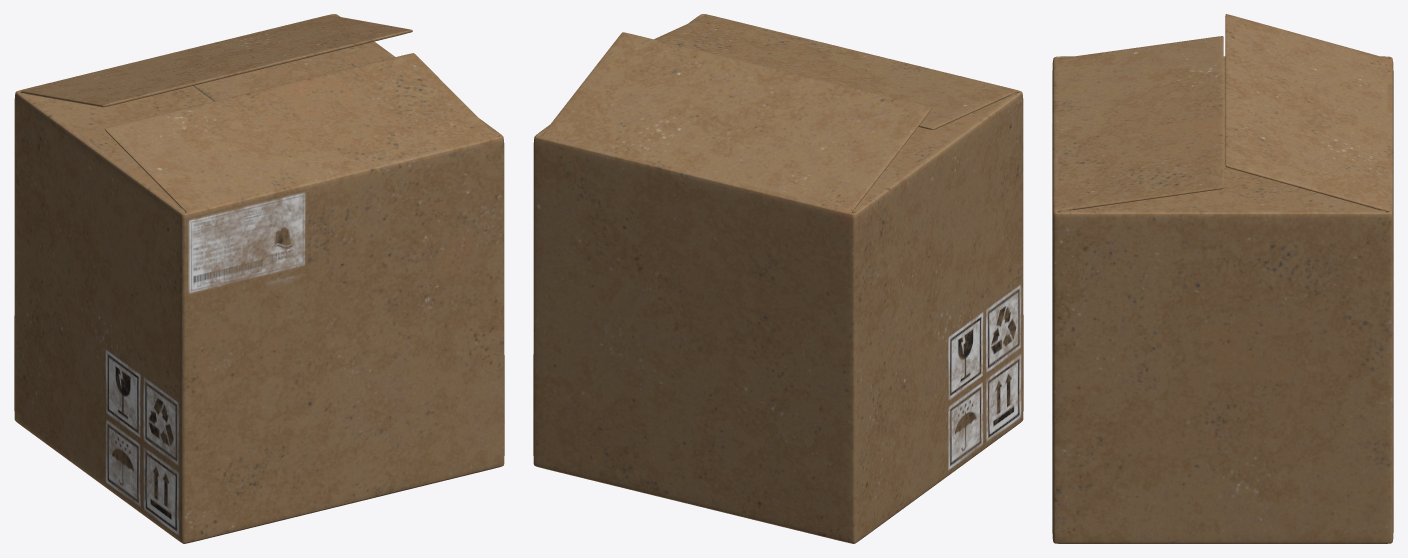
3 views of the same model, side by side, from view 1: azimuth 30°, elevation 25°; view 2: azimuth 150°, elevation 25°; view 3: azimuth 270°, elevation 25° (orthographic).
Parts seen in each view (by area): view 1: FG Cardboard Box .Shape; view 2: FG Cardboard Box .Shape; view 3: FG Cardboard Box .Shape.
Boxes of the visible parts, box(x1,y1,x2,y2) form: FG Cardboard Box .Shape: box(14, 14, 504, 543); FG Cardboard Box .Shape: box(533, 14, 1023, 543); FG Cardboard Box .Shape: box(1052, 14, 1393, 543).
Size of the model in its own units: 48.56 by 53.95 by 44.24.
Materials: 1 (1 with a texture image).
